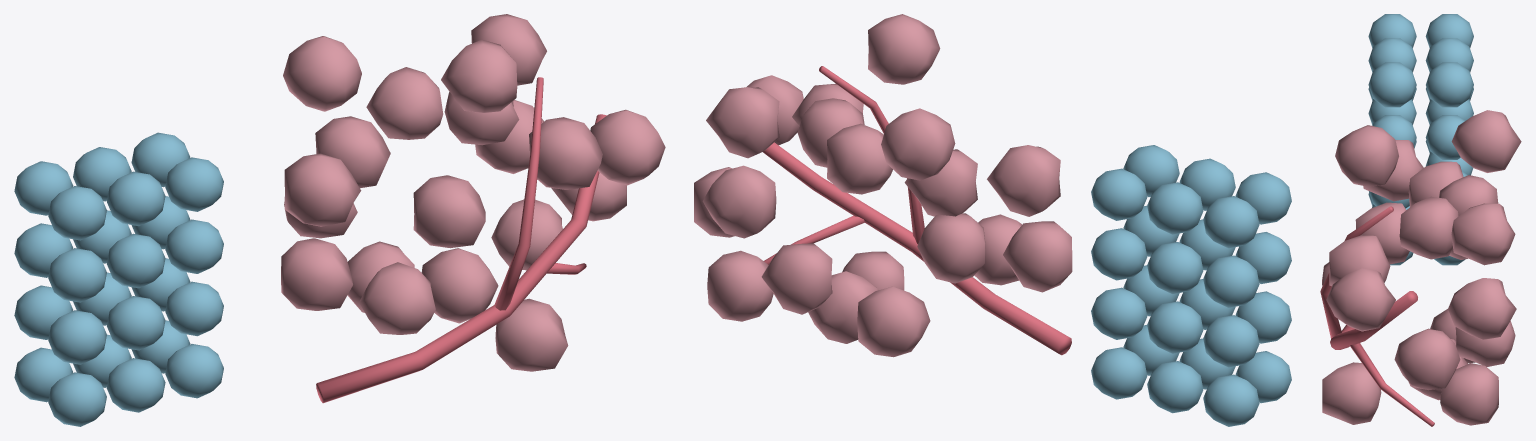
The model's file is tumor_microenv.glb.
The picture shows the model from 3 angles, left to right: view 1: azimuth 30°, elevation 25°; view 2: azimuth 150°, elevation 25°; view 3: azimuth 270°, elevation 25°; orthographic projection. The views are drawn at different scales.
Parts seen in each view (by area): view 1: Tumor_Spheroid_Cluster, Healthy_Epithelium, Vessel_Branch; view 2: Tumor_Spheroid_Cluster, Healthy_Epithelium, Vessel_Branch; view 3: Tumor_Spheroid_Cluster, Healthy_Epithelium, Vessel_Branch.
Boxes of the visible parts, x1,y1,x2,y2 form: Tumor_Spheroid_Cluster: [281, 14, 665, 371]; Healthy_Epithelium: [14, 132, 223, 426]; Vessel_Branch: [316, 77, 606, 403]; Tumor_Spheroid_Cluster: [694, 14, 1072, 357]; Healthy_Epithelium: [1091, 145, 1291, 426]; Vessel_Branch: [763, 66, 1071, 355]; Tumor_Spheroid_Cluster: [1322, 110, 1521, 425]; Healthy_Epithelium: [1368, 14, 1473, 265]; Vessel_Branch: [1320, 206, 1434, 426].
Bounding box in the file's own units: 13.97 × 7.35 × 4.85.
